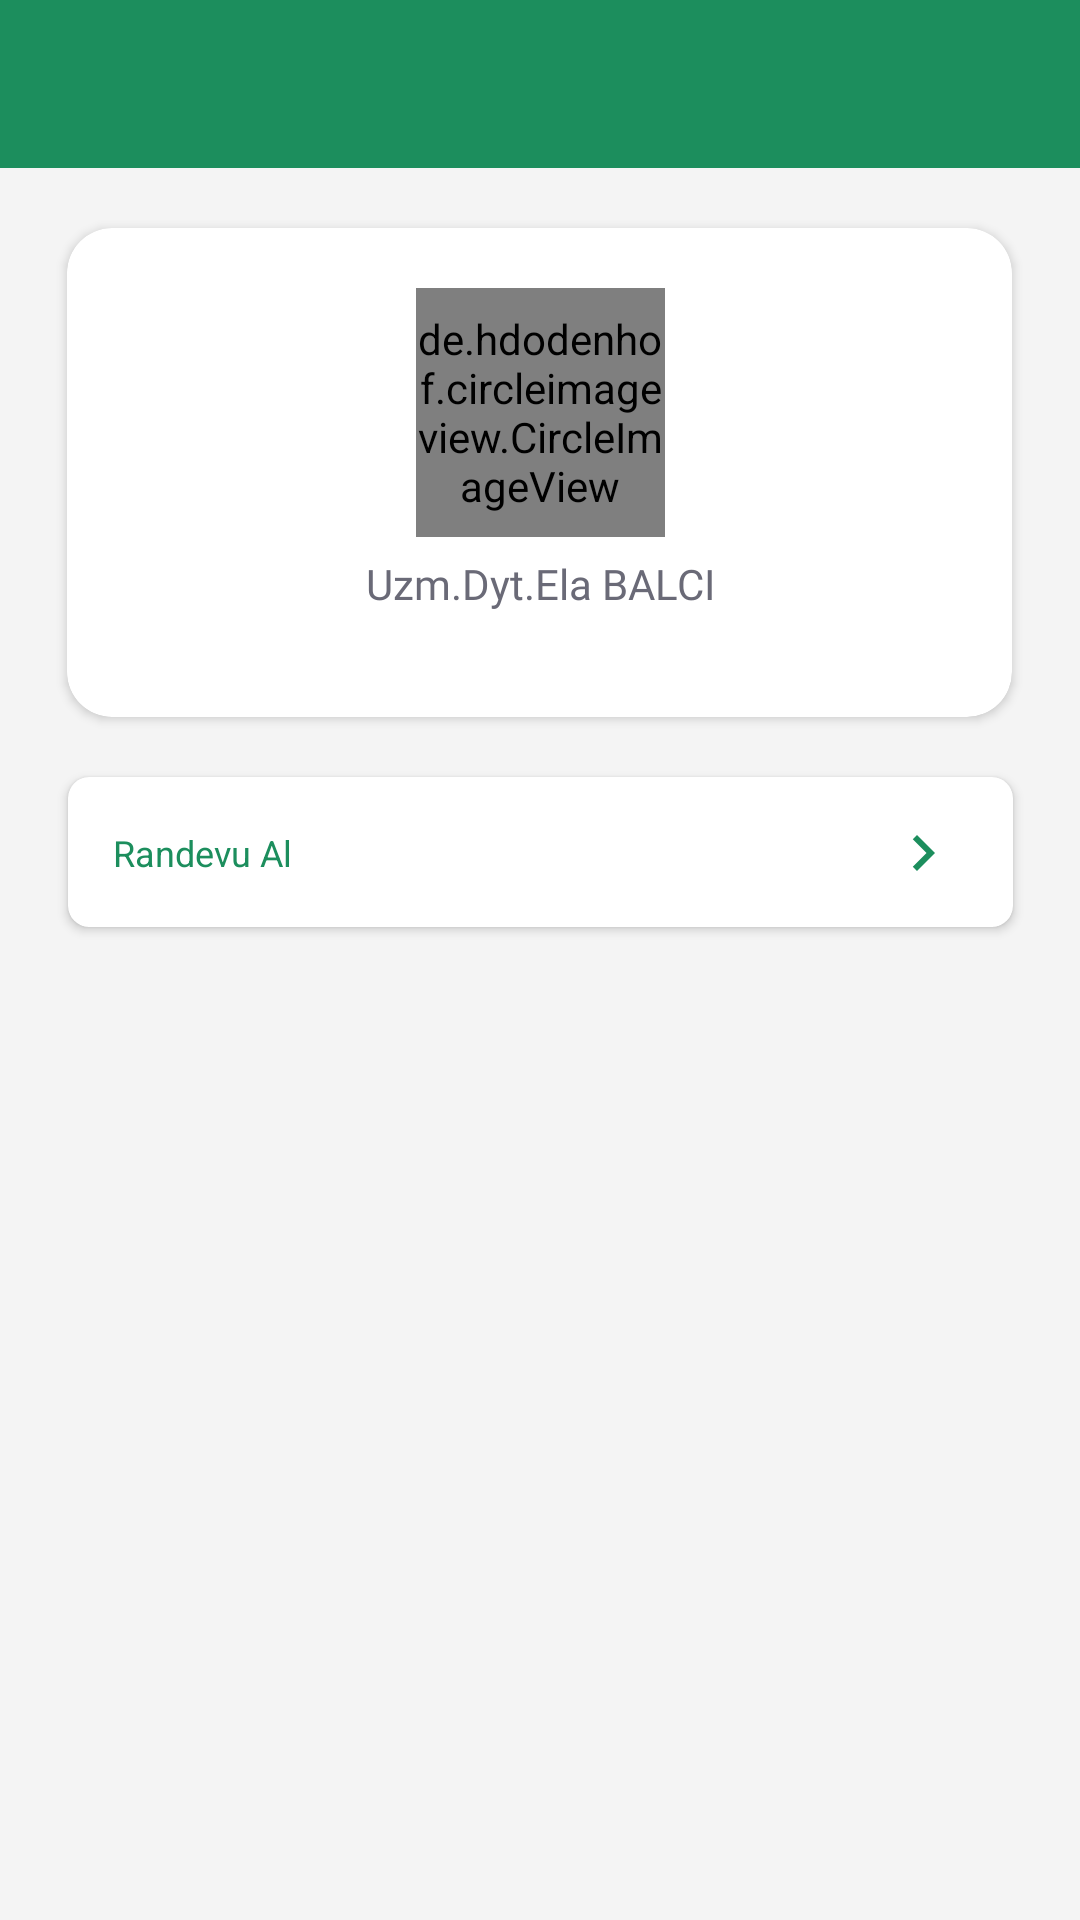

Icons on this 1080*1920 Android screen, each with the point to tap as point (x, y):
right: point (924, 853)
